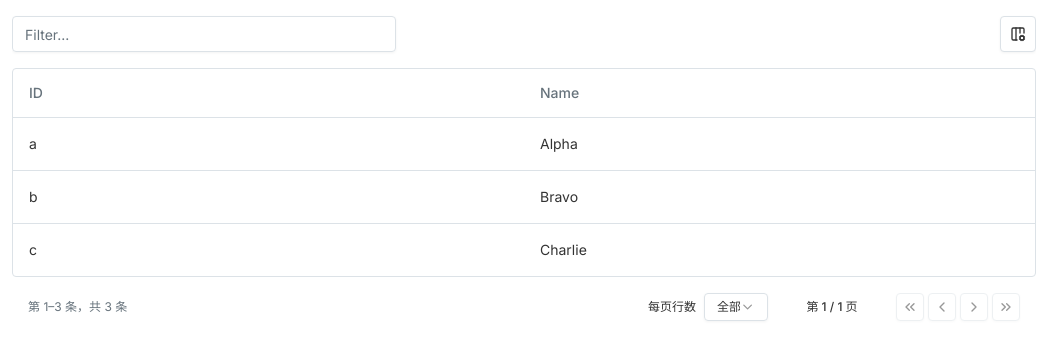
Scenario: DataTable — controlled filter projection › does not resurrect the previous query after the X clears past a settled debounce
Type "alpha" into the field with placeholder "Filter..." at (204, 34), box left=13, top=16, right=395, bottom=52
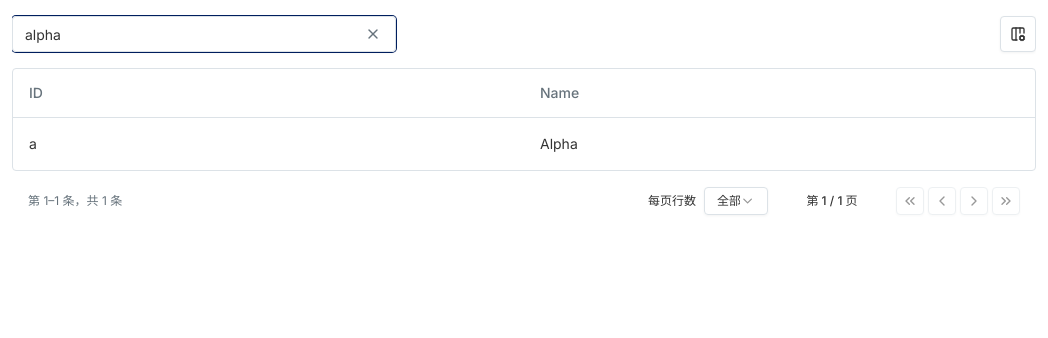
Click the button named "清除搜索" at (373, 34), box left=357, top=20, right=389, bottom=48
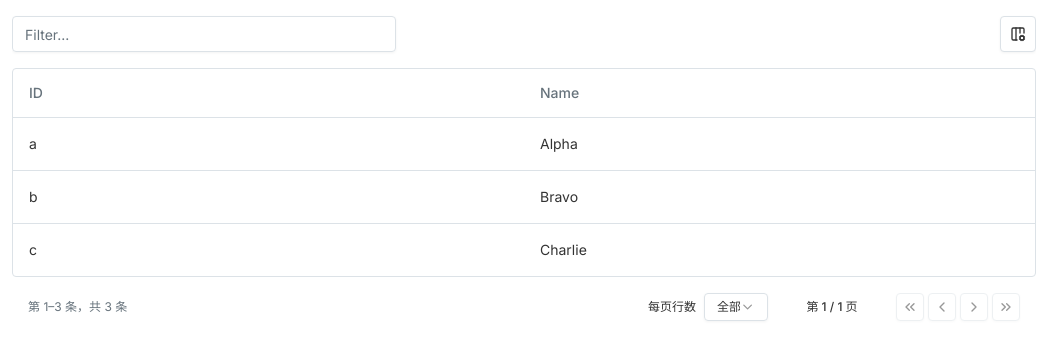
Now the field with placeholder "Filter..." is empty, box left=13, top=16, right=395, bottom=52
